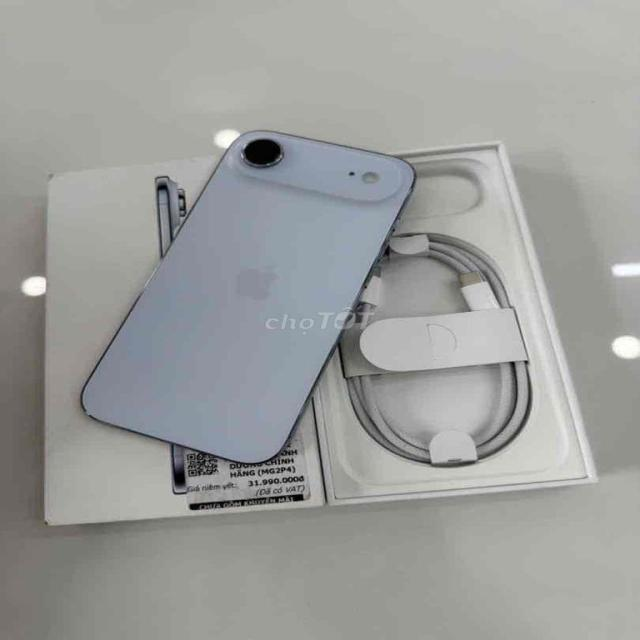gen_17: (84, 112, 418, 460)
